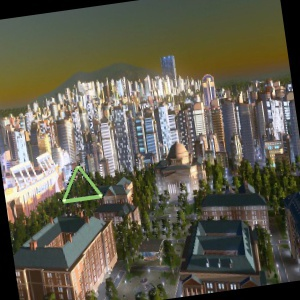triangle: (60, 164, 104, 204)
